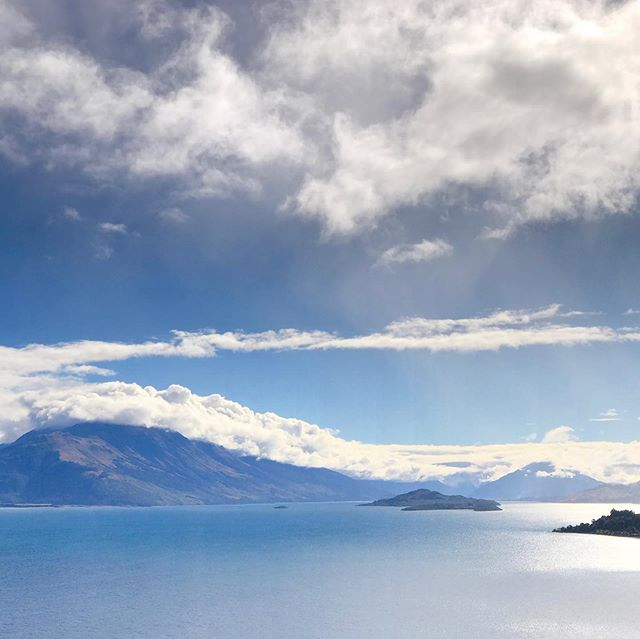mountain: (1, 397, 349, 473)
sea: (1, 509, 624, 639)
sky: (1, 1, 630, 427)
